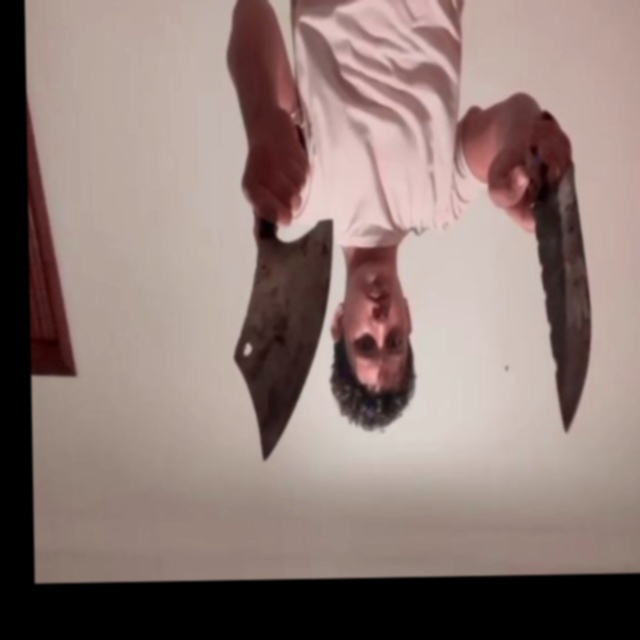Sharp-Object: (228, 220, 337, 462), (530, 163, 597, 433)
